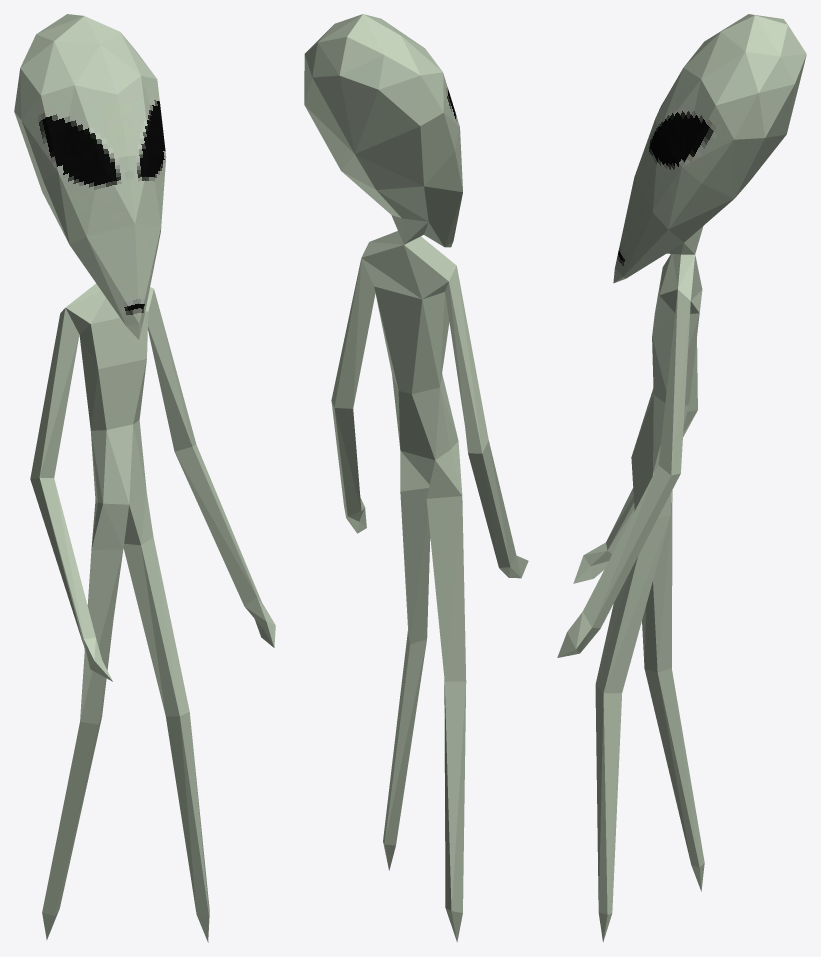
The model's file is Alien.obj.
The picture shows the model from 3 angles, left to right: view 1: azimuth 30°, elevation 25°; view 2: azimuth 150°, elevation 25°; view 3: azimuth 270°, elevation 25°; orthographic projection. The views are drawn at different scales.
Visible parts, largest first — view 1: DrawCall_35_mater.041; view 2: DrawCall_35_mater.041; view 3: DrawCall_35_mater.041.
Boxes of the visible parts, bbox=[...] form: DrawCall_35_mater.041: bbox=[14, 14, 275, 942]; DrawCall_35_mater.041: bbox=[304, 14, 528, 942]; DrawCall_35_mater.041: bbox=[557, 14, 806, 942].
Bounding box in the file's own units: 0.8496 × 3.85 × 0.9588.
